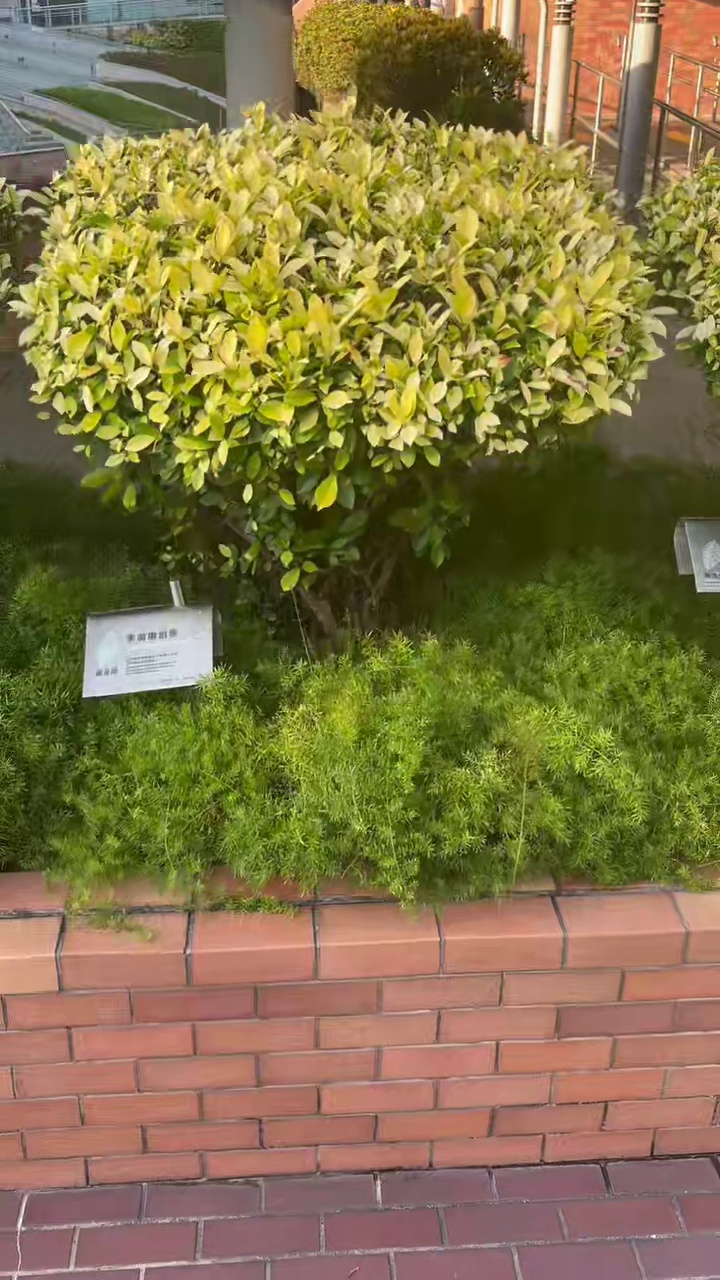Golden-leaves Fig: (17, 104, 661, 632)
